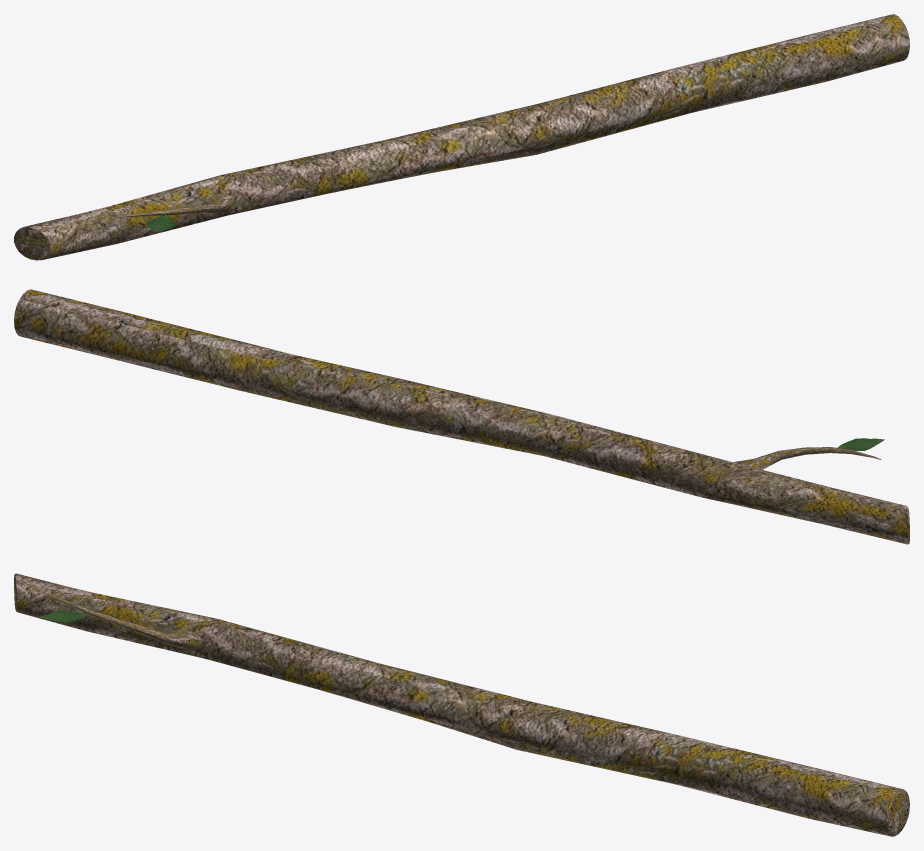
Rendered from rama.fbx.
3 renders of one model, top to bottom at view 1: azimuth 30°, elevation 25°; view 2: azimuth 150°, elevation 25°; view 3: azimuth 330°, elevation 25°, orthographic. The views are drawn at different scales.
Parts seen in each view (by area): view 1: rama; view 2: rama; view 3: rama.
Boxes of the visible parts, x1,y1,x2,y2 form: rama: (14,14,909,260); rama: (14,289,909,544); rama: (14,573,909,836).
Bounding box in the file's own units: 52.19 × 3.42 × 6.34.
